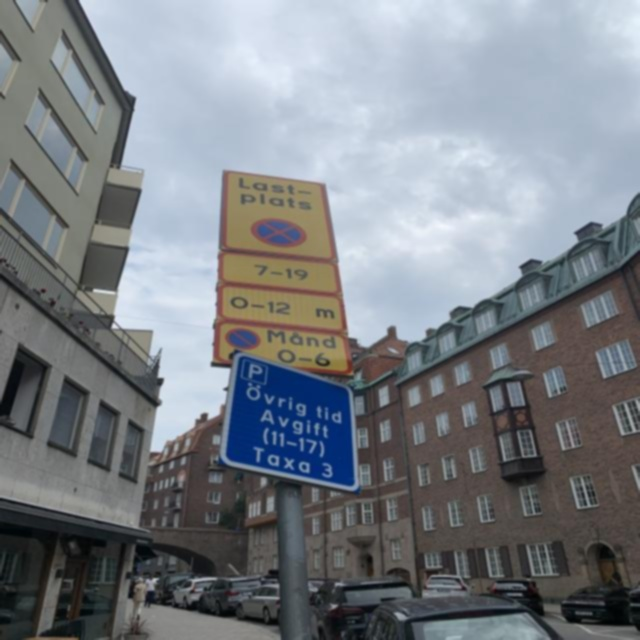lastplats: (218, 168, 340, 265)
